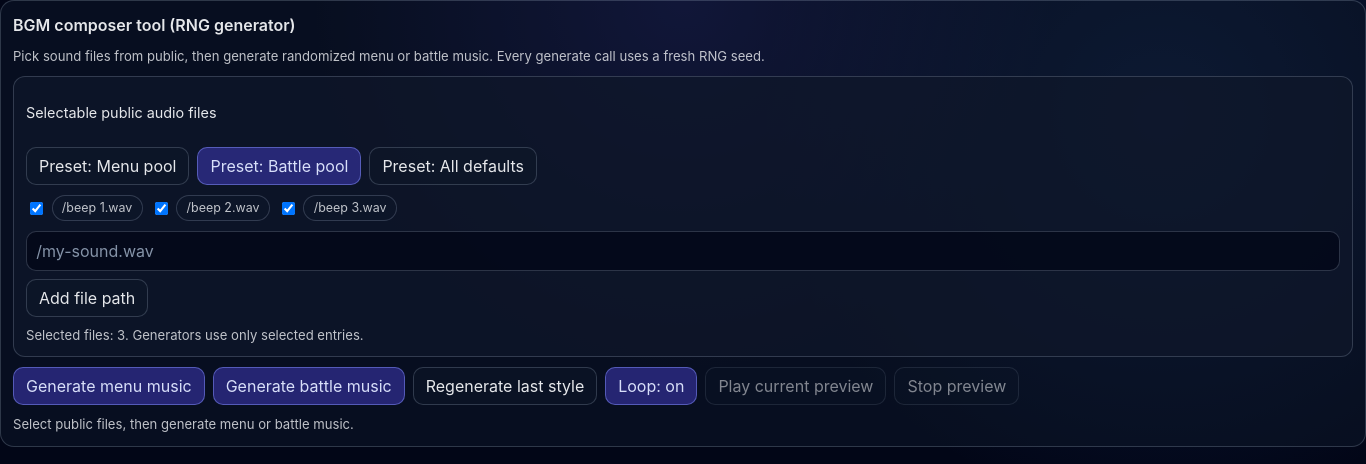
Test case: BgmComposerToolExample › applies file pool presets and updates status
Step 1. Click the button "Preset: Menu pool" → point(108, 166), box [26, 147, 190, 186]
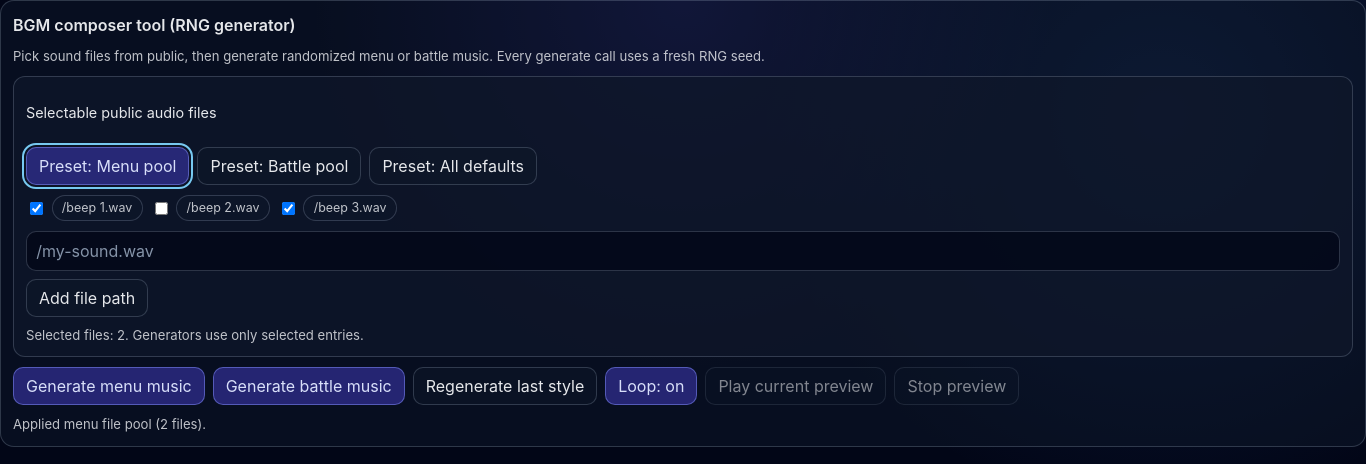
Expected: the text "Applied menu file pool (2 files)." is shown, [13, 416, 206, 432]
Step 2. Click the button "Preset: Battle pool" → point(279, 166), box [198, 147, 361, 186]
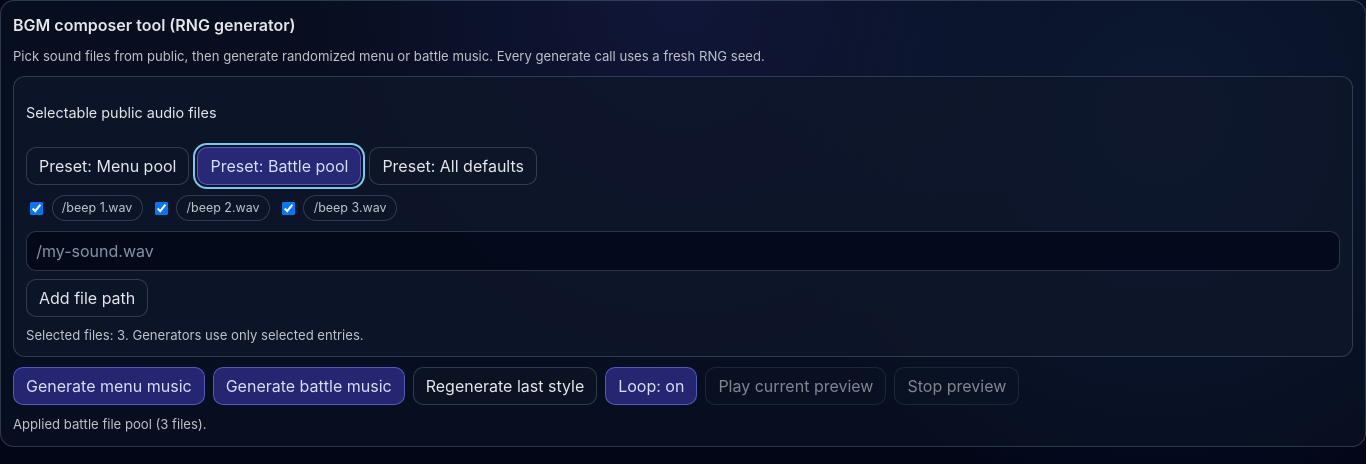
Expected: the text "Applied battle file pool (3 files)." is shown, [13, 416, 206, 432]
